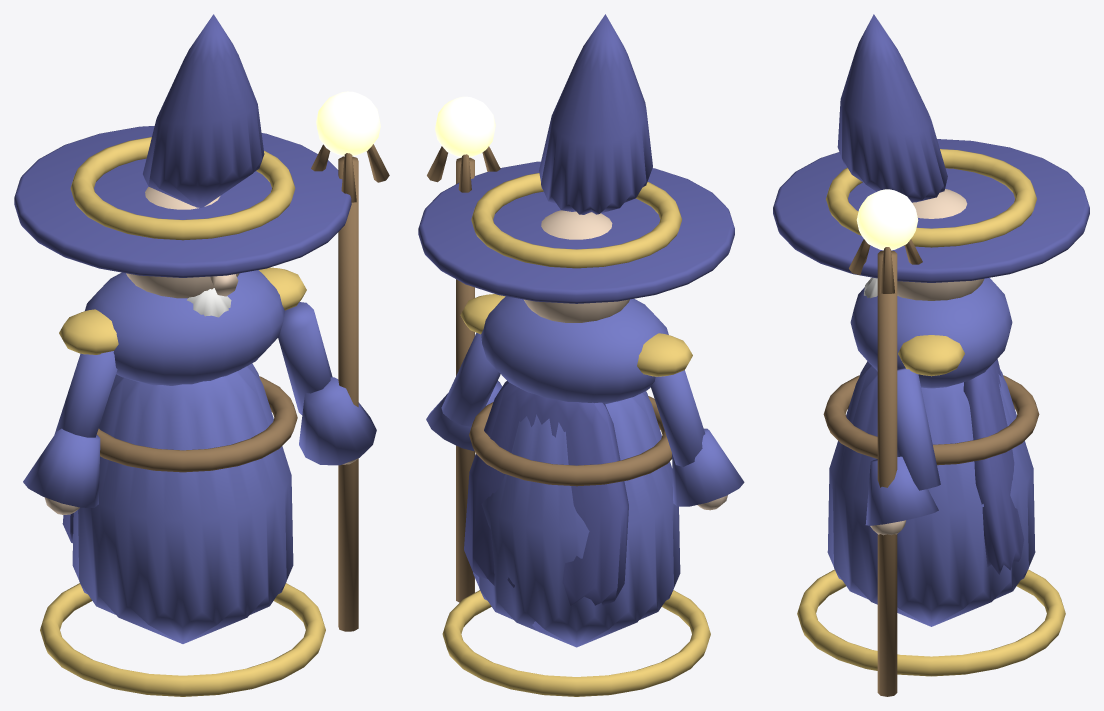
File: wizard.glb
3 views of the same model, side by side, from view 1: azimuth 30°, elevation 25°; view 2: azimuth 150°, elevation 25°; view 3: azimuth 270°, elevation 25° (orthographic). The views are drawn at different scales.
Parts seen in each view (by area): view 1: Robe, Brim, HatCone, Shoulders, Hem, Band, Staff, Belt, SleeveR, SleeveL, ArmR, ArmL (+5 smaller); view 2: Robe, Brim, Cape, HatCone, Shoulders, Hem, Band, Belt, Staff, Head, ArmL, SleeveL (+5 smaller); view 3: Robe, Brim, HatCone, Shoulders, Staff, Hem, Cape, Band, Belt, ArmR, SleeveR, Orb (+3 smaller).
Part boxes in pixels (box(x1,y1,x2,y2)): Robe: box(72, 363, 293, 643); Brim: box(14, 126, 351, 277); HatCone: box(143, 14, 264, 207); Shoulders: box(85, 270, 284, 385); Hem: box(40, 583, 325, 696); Band: box(70, 137, 295, 240); Staff: box(338, 156, 358, 631); Belt: box(96, 376, 297, 472); SleeveR: box(299, 377, 376, 465); SleeveL: box(23, 428, 100, 507); ArmR: box(278, 302, 332, 414); ArmL: box(54, 351, 117, 437); Robe: box(473, 391, 680, 647); Brim: box(418, 161, 734, 303); Cape: box(464, 381, 628, 632); HatCone: box(539, 14, 652, 214); Shoulders: box(481, 296, 668, 404); Hem: box(442, 590, 710, 696); Band: box(471, 173, 682, 268); Belt: box(469, 396, 671, 486); Staff: box(456, 157, 474, 602); Head: box(524, 210, 629, 322); ArmL: box(650, 370, 705, 466); SleeveL: box(672, 428, 744, 506); Robe: box(827, 361, 1035, 626); Brim: box(773, 139, 1089, 282); HatCone: box(837, 14, 947, 202); Shoulders: box(850, 278, 1012, 388); Staff: box(877, 250, 897, 696); Hem: box(797, 569, 1065, 676); Cape: box(963, 359, 1024, 574); Band: box(826, 149, 1036, 247); Belt: box(823, 375, 1039, 465); ArmR: box(897, 368, 940, 490); SleeveR: box(865, 456, 938, 525); Orb: box(856, 189, 918, 250).
Bounding box in the file's own units: 1.7 × 3.08 × 1.44.
